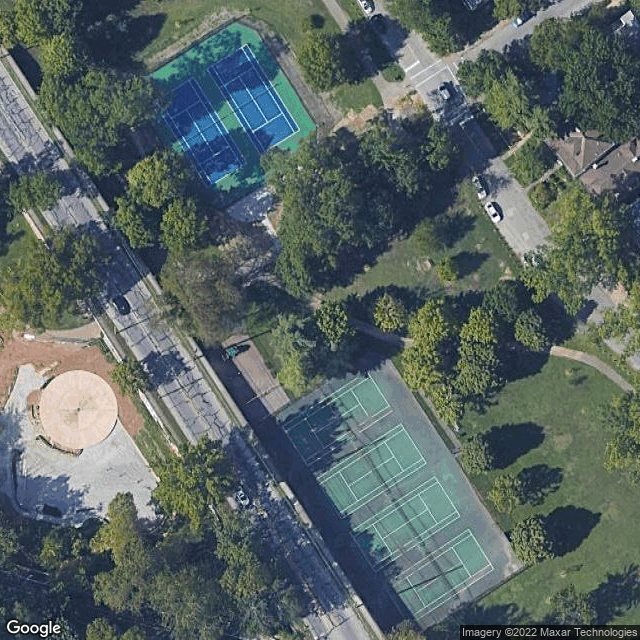Court: (346, 473, 462, 575), (148, 74, 248, 188), (315, 422, 430, 521), (280, 369, 394, 467), (380, 528, 493, 626), (203, 42, 300, 156)
